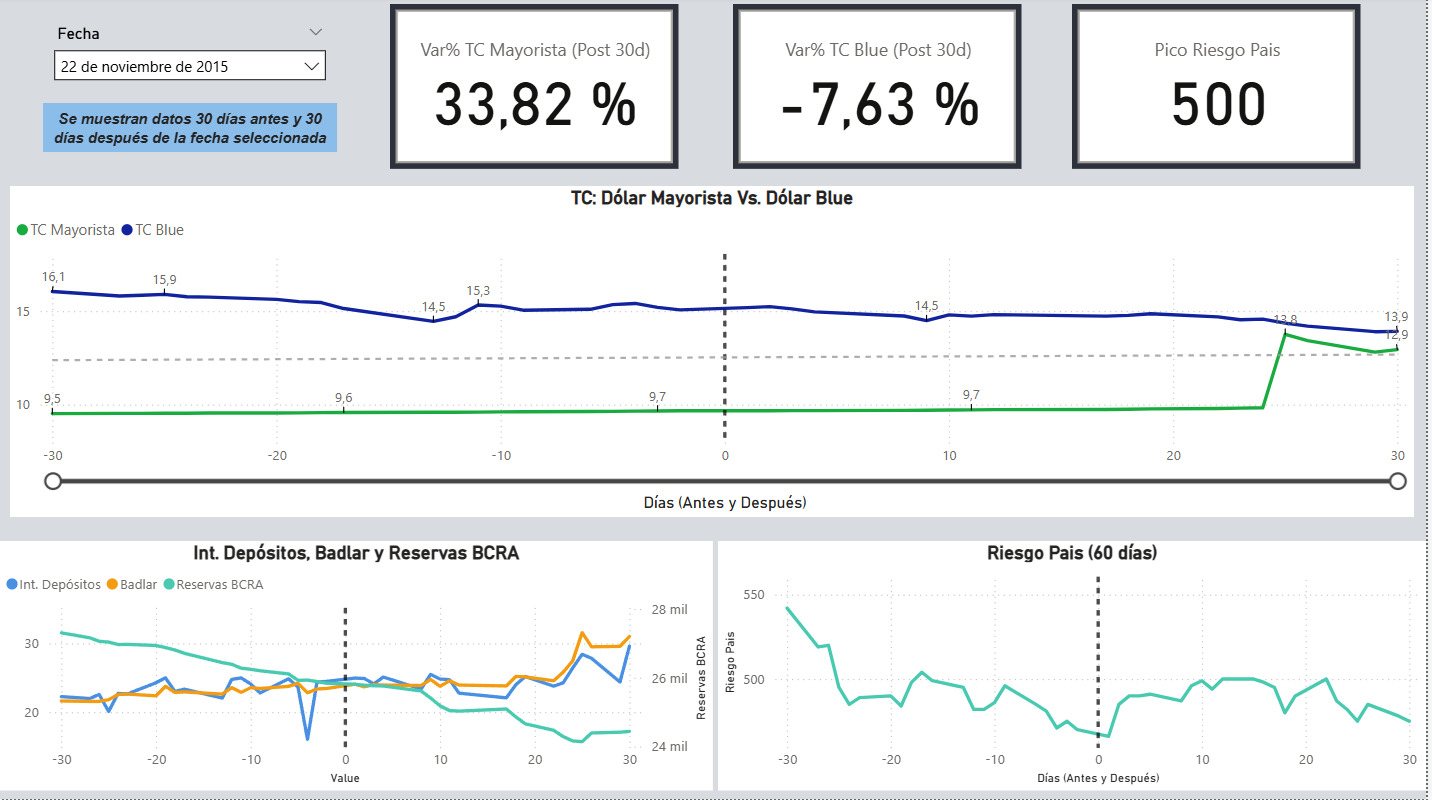

The page's visual inventory and layout, read from the dashboard file:
{"tool":"powerbi","page":{"name":"TC elecciones","canvas":[1280,720],"ordinal":0},"visuals":[{"type":"cardVisual","fields":{"Data":["Medidas Dax.Var% TC Mayorista (Post 30d)"]},"box":[350.1,6.3,259.5,148.1],"z":0},{"type":"lineChart","title":"TC: Dólar Mayorista Vs. Dólar Blue","fields":{"Category":["Dias Relativos.Value"],"Y":["Medidas Dax.TC Mayorista por Dia Relativo","Medidas Dax.TC Blue por Dia Relativo"]},"box":[9,169.7,1260.4,297.2],"z":1000},{"type":"lineChart","title":"Int. Depósitos, Badlar y Reservas BCRA","fields":{"Category":["Dias Relativos.Value"],"Y2":["Medidas Dax.Reservas por Dia Relativo"],"Y":["Medidas Dax.int depositos por Dia Relativo","Medidas Dax.Badlar Dia Relativo"]},"box":[0,488.4,640.1,223.5],"z":2000},{"type":"slicer","fields":{"Values":["Elecciones.Fecha"]},"box":[38.6,19.8,263.9,80.8],"z":3000},{"type":"lineChart","title":"Riesgo Pais (60 días)","fields":{"Category":["Dias Relativos.Value"],"Y":["Medidas Dax.Riesgo Pais por Dia Relativo"]},"box":[644.6,488.4,635.6,223.5],"z":4000},{"type":"cardVisual","fields":{"Data":["Medidas Dax.Var% TC Blue (Post 30d)"]},"box":[658.1,6.3,259.5,148.1],"z":5000},{"type":"cardVisual","title":"Pico Riesgo País","fields":{"Data":["Medidas Dax.Pico Riesgo Pais (Post 30d)"]},"box":[962.4,6.3,259.5,148.1],"z":6000},{"type":"textbox","box":[38.6,95.2,263.9,44],"z":8000}]}

Visuals, with their boxes in screenshot pixels (x1, y1, x2, y2), scaled from the page's 1280x720 canvas onto the 1432x800 screenshot:
cardVisual - Medidas Dax.Var% TC Mayorista (Post 30d): [x1=392, y1=7, x2=682, y2=172]
"TC: Dólar Mayorista Vs. Dólar Blue" lineChart: [x1=10, y1=189, x2=1420, y2=519]
"Int. Depósitos, Badlar y Reservas BCRA" lineChart: [x1=0, y1=543, x2=716, y2=791]
slicer - Elecciones.Fecha: [x1=43, y1=22, x2=338, y2=112]
"Riesgo Pais (60 días)" lineChart: [x1=721, y1=543, x2=1431, y2=791]
cardVisual - Medidas Dax.Var% TC Blue (Post 30d): [x1=736, y1=7, x2=1027, y2=172]
"Pico Riesgo País" cardVisual: [x1=1077, y1=7, x2=1367, y2=172]
textbox: [x1=43, y1=106, x2=338, y2=155]
